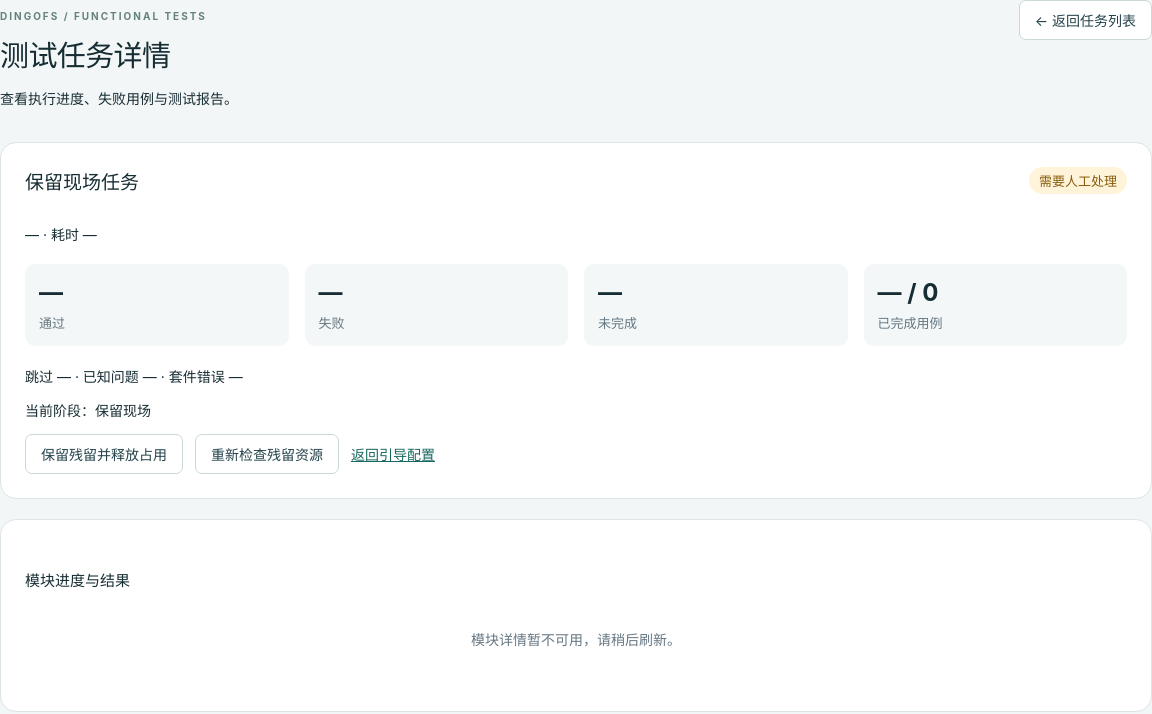
it: admin confirms release, retains warning, and can reacquire before cleanup
The width and height of the screenshot is (1152, 714).
Click the button "保留残留并释放占用" at (104, 454), box left=25, top=434, right=183, bottom=474
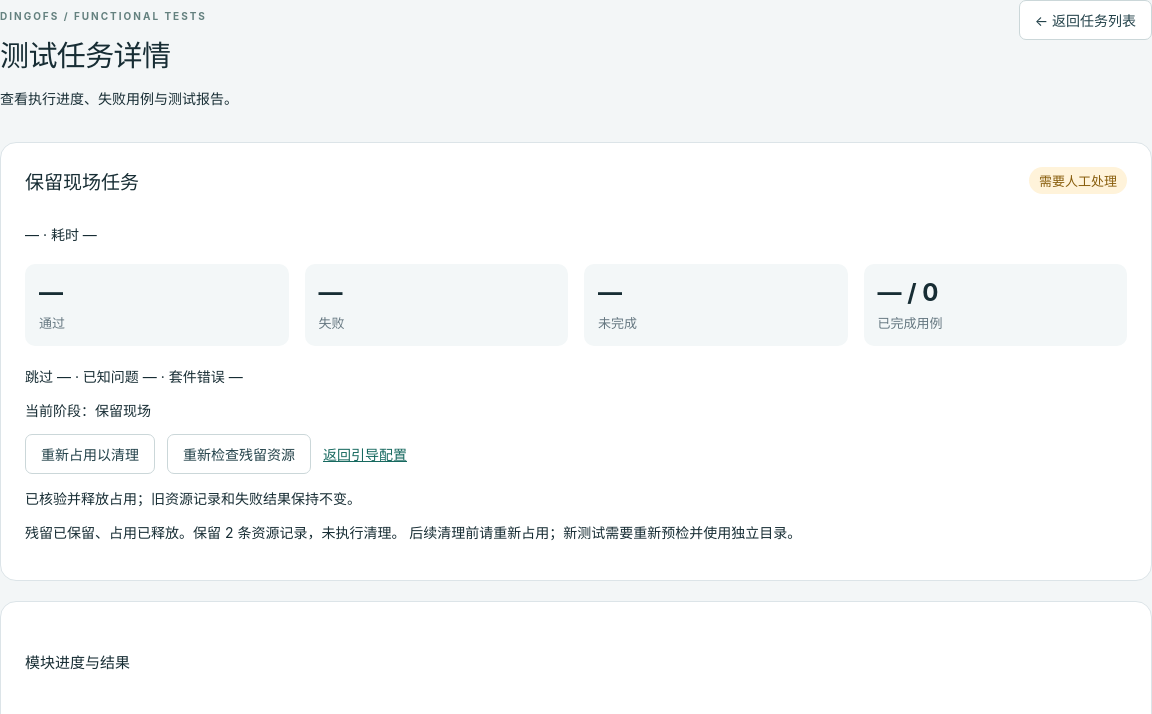
Check: the text "残留已保留、占用已释放。保留 2 条资源记录，未执行清理。 后续清理前请重新占用；新测试需要重新预检并使用独立目录。" is shown, box left=25, top=524, right=801, bottom=541
Click the button "重新占用以清理" at (90, 454), box left=25, top=434, right=155, bottom=474
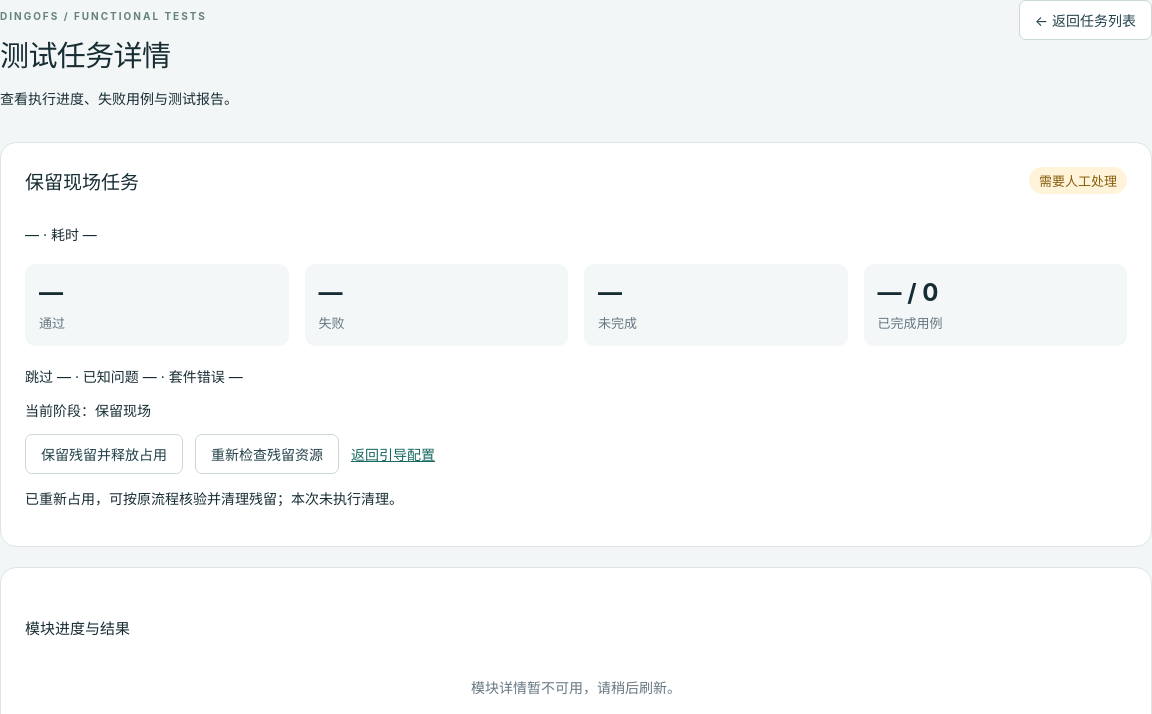
Check: the message shows "已重新占用", box left=25, top=490, right=403, bottom=507
